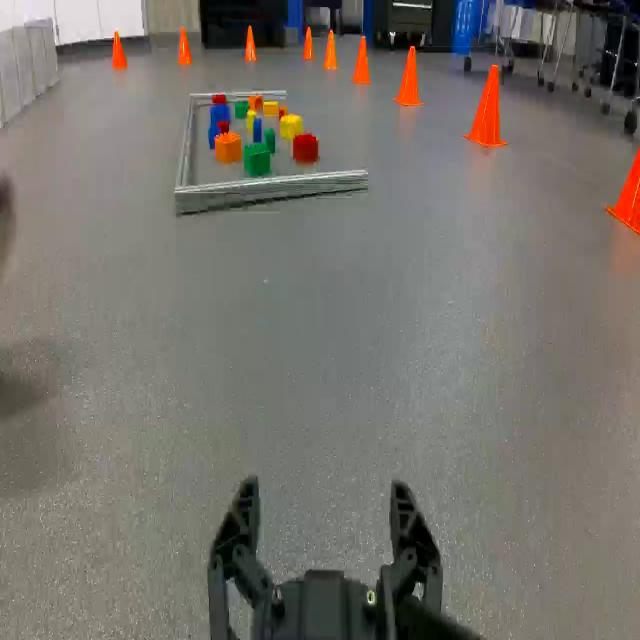block: (281, 114, 303, 140)
blue: (212, 105, 232, 129), (217, 120, 230, 137), (252, 117, 262, 139)
cone: (468, 62, 508, 148), (610, 129, 640, 239), (392, 44, 423, 106), (353, 35, 374, 87), (110, 29, 130, 73), (176, 27, 196, 70), (242, 20, 258, 70), (322, 31, 339, 74), (300, 25, 314, 63)
green: (242, 143, 271, 178), (263, 128, 275, 152), (234, 100, 247, 116)
metal barrier: (172, 89, 370, 217)
orange: (214, 130, 244, 162), (264, 99, 280, 115), (248, 96, 262, 110), (277, 106, 287, 122)
red goal: (293, 131, 319, 163), (213, 93, 228, 107)
storage cube: (11, 20, 37, 110), (0, 28, 22, 128), (25, 20, 50, 97), (40, 13, 60, 88)
